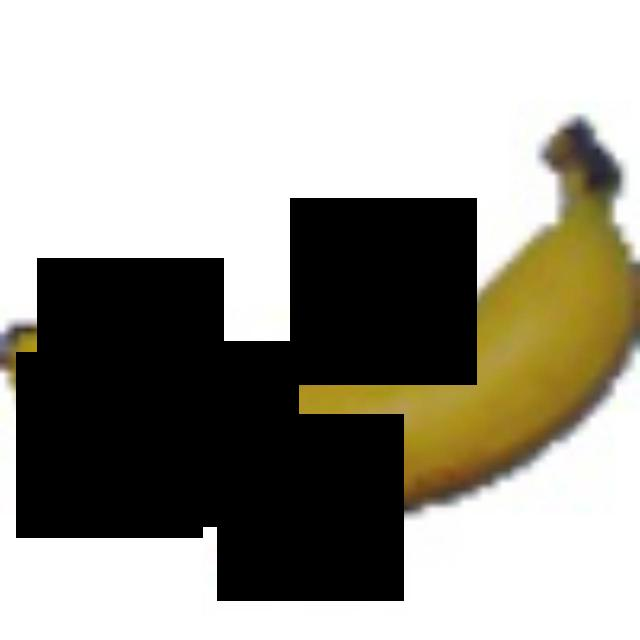banana: (0, 128, 634, 538)
